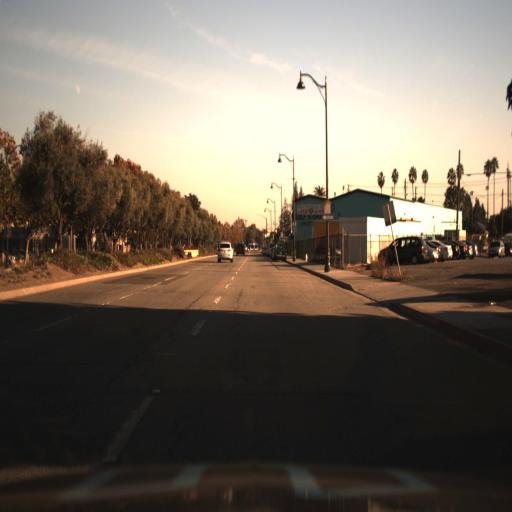car: (375, 234, 427, 267), (213, 234, 237, 265), (419, 240, 439, 262), (436, 237, 452, 264), (232, 236, 249, 259), (428, 237, 440, 267), (274, 242, 287, 263), (447, 239, 460, 259), (461, 240, 470, 260)
